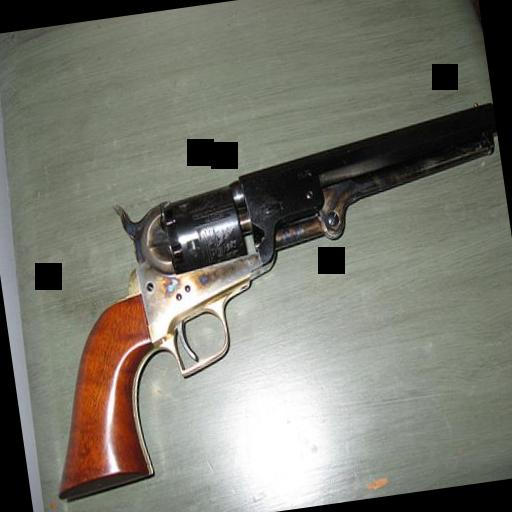Handgun: (10, 96, 512, 504)
